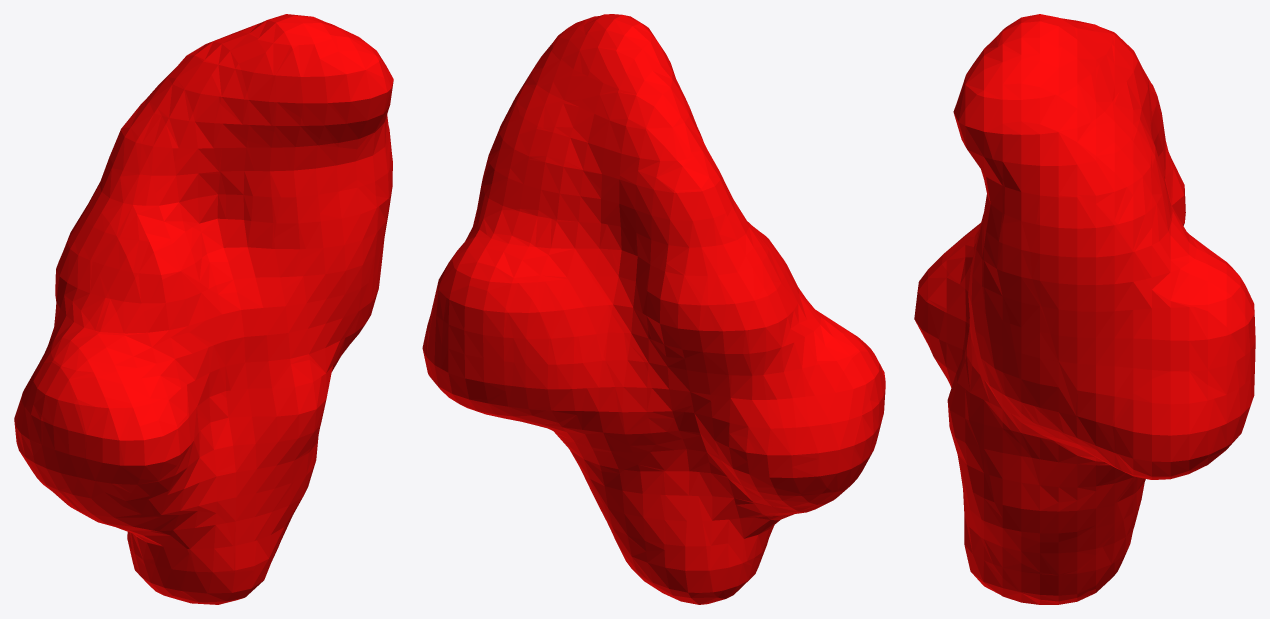
Rendered from ydiH_coarse.dae.
The picture shows the model from 3 angles, left to right: view 1: azimuth 30°, elevation 25°; view 2: azimuth 150°, elevation 25°; view 3: azimuth 270°, elevation 25°; orthographic projection. The views are drawn at different scales.
Visible parts, largest first — view 1: ydiH; view 2: ydiH; view 3: ydiH.
Part boxes in pixels (x1=…): ydiH: x1=14, y1=14, x2=393, y2=604; ydiH: x1=422, y1=14, x2=885, y2=604; ydiH: x1=914, y1=14, x2=1255, y2=604.
Bounding box in the file's own units: 35.87 × 48.76 × 24.2.
